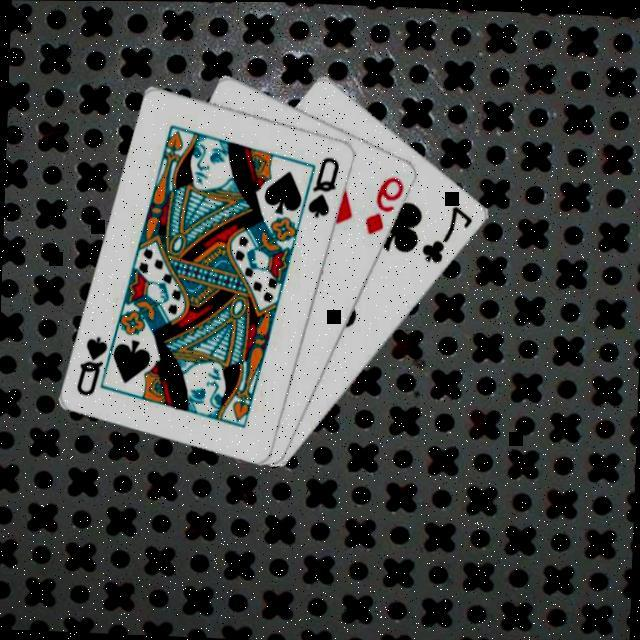7C: (420, 201, 478, 268)
9D: (363, 172, 409, 238)
QS: (306, 152, 344, 221), (74, 332, 112, 399)
